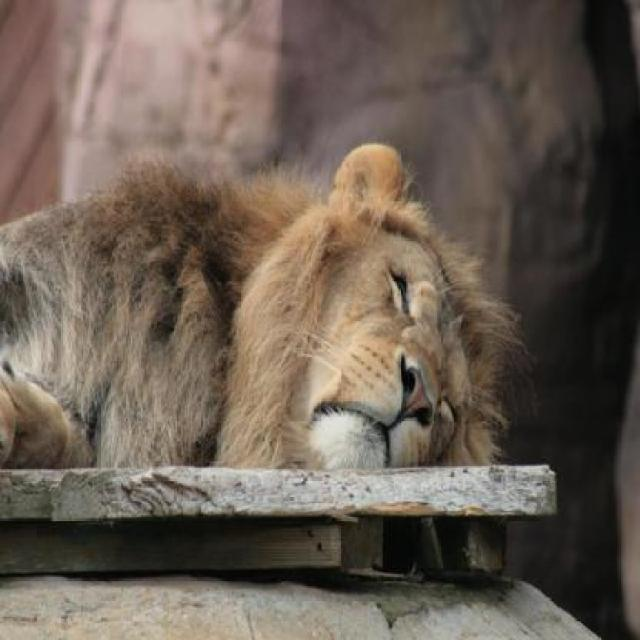Lion: (2, 125, 524, 477)
